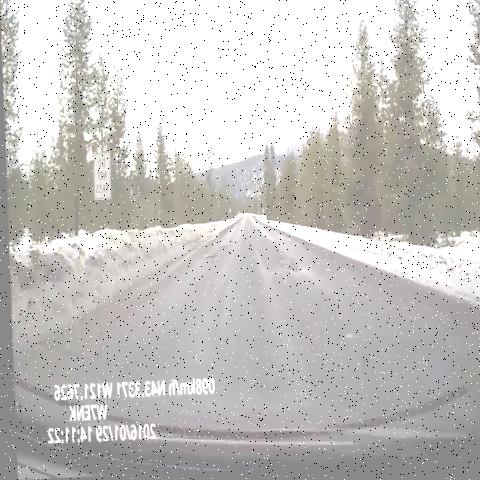pothole: (268, 241, 296, 277), (197, 239, 226, 270), (338, 324, 359, 355)
